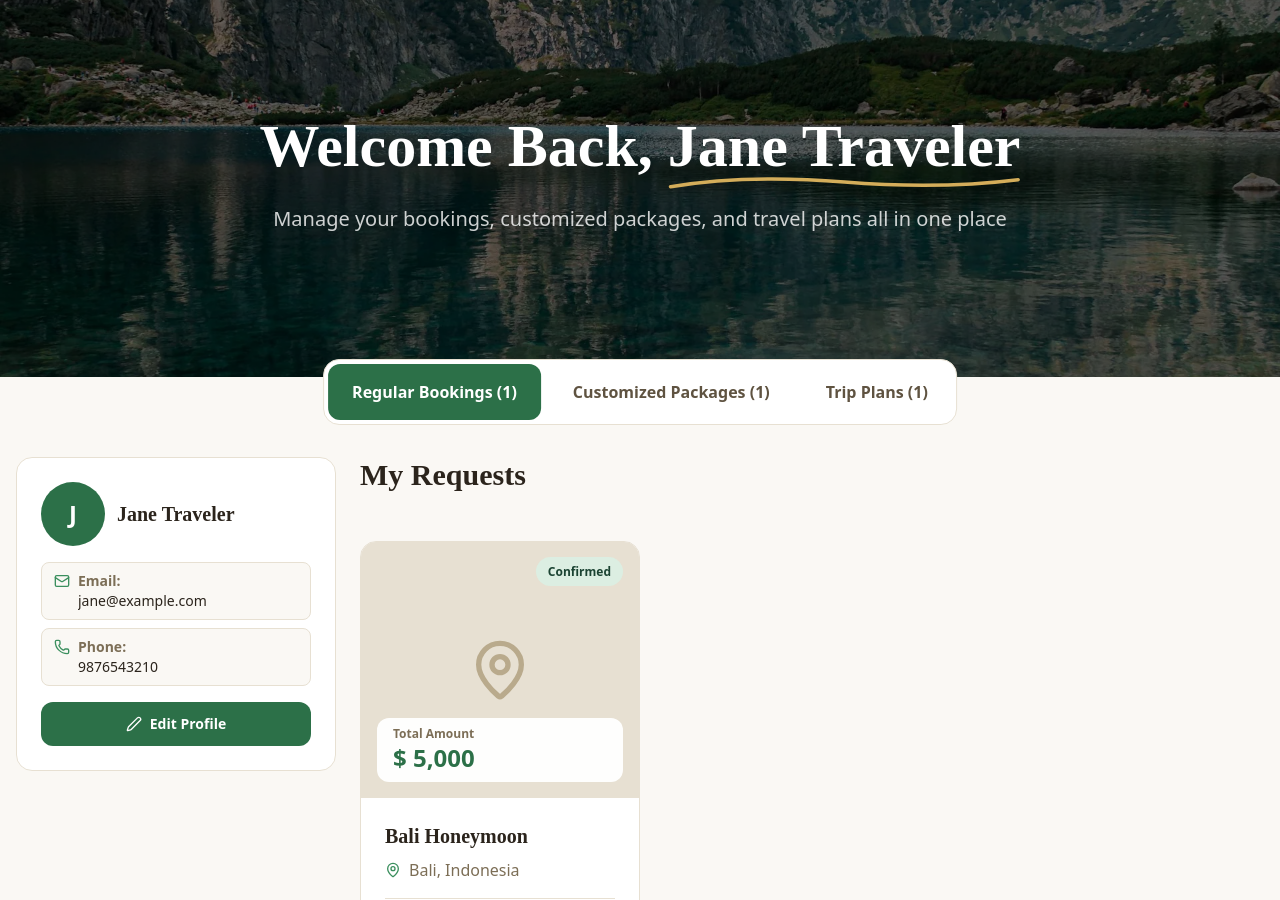
Test: MyAccountContainer › shows the API error message when the profile save fails
Click the button "Edit Profile" at (176, 724), box left=41, top=702, right=311, bottom=746
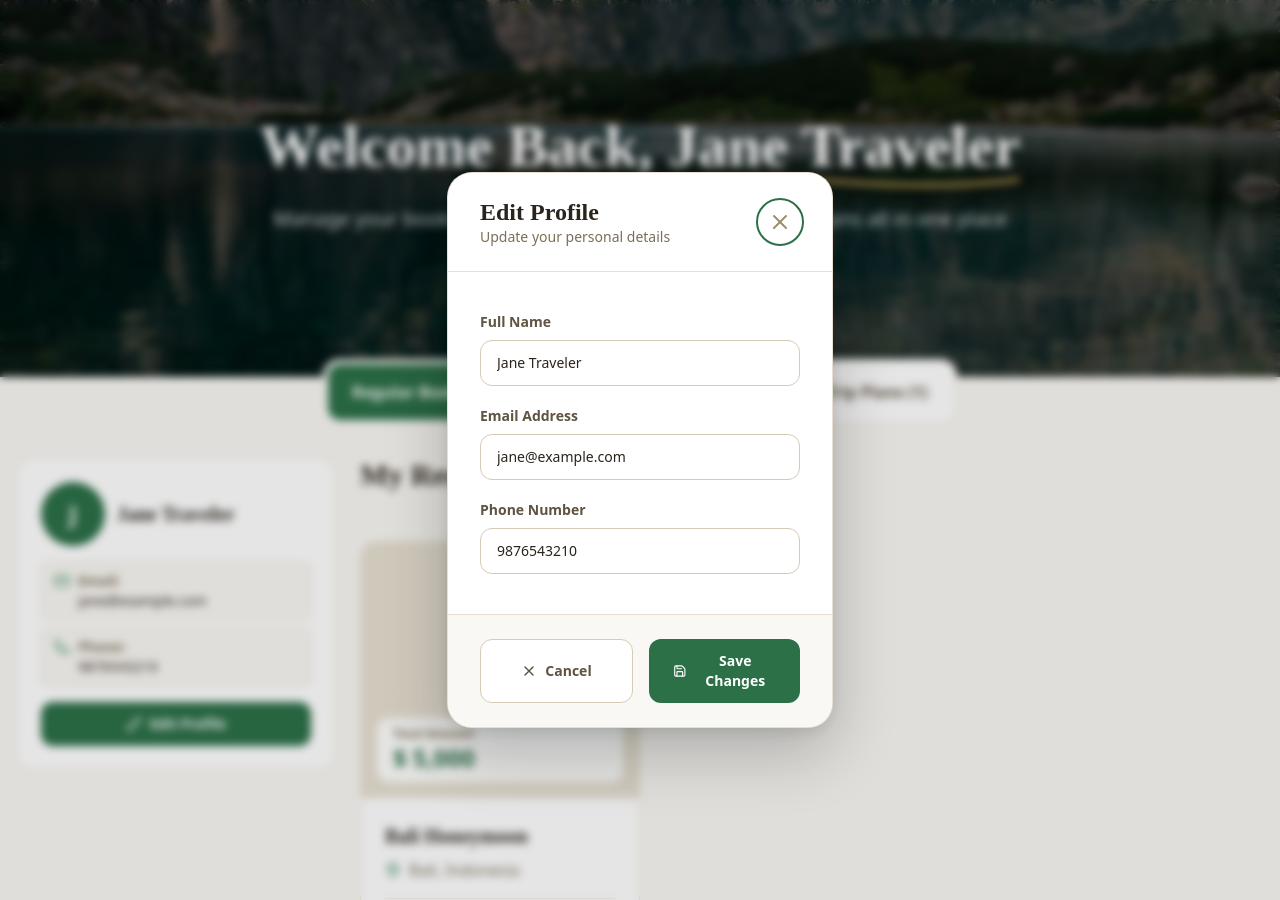
Click the button "Save Changes" at (724, 671), box left=649, top=639, right=800, bottom=703
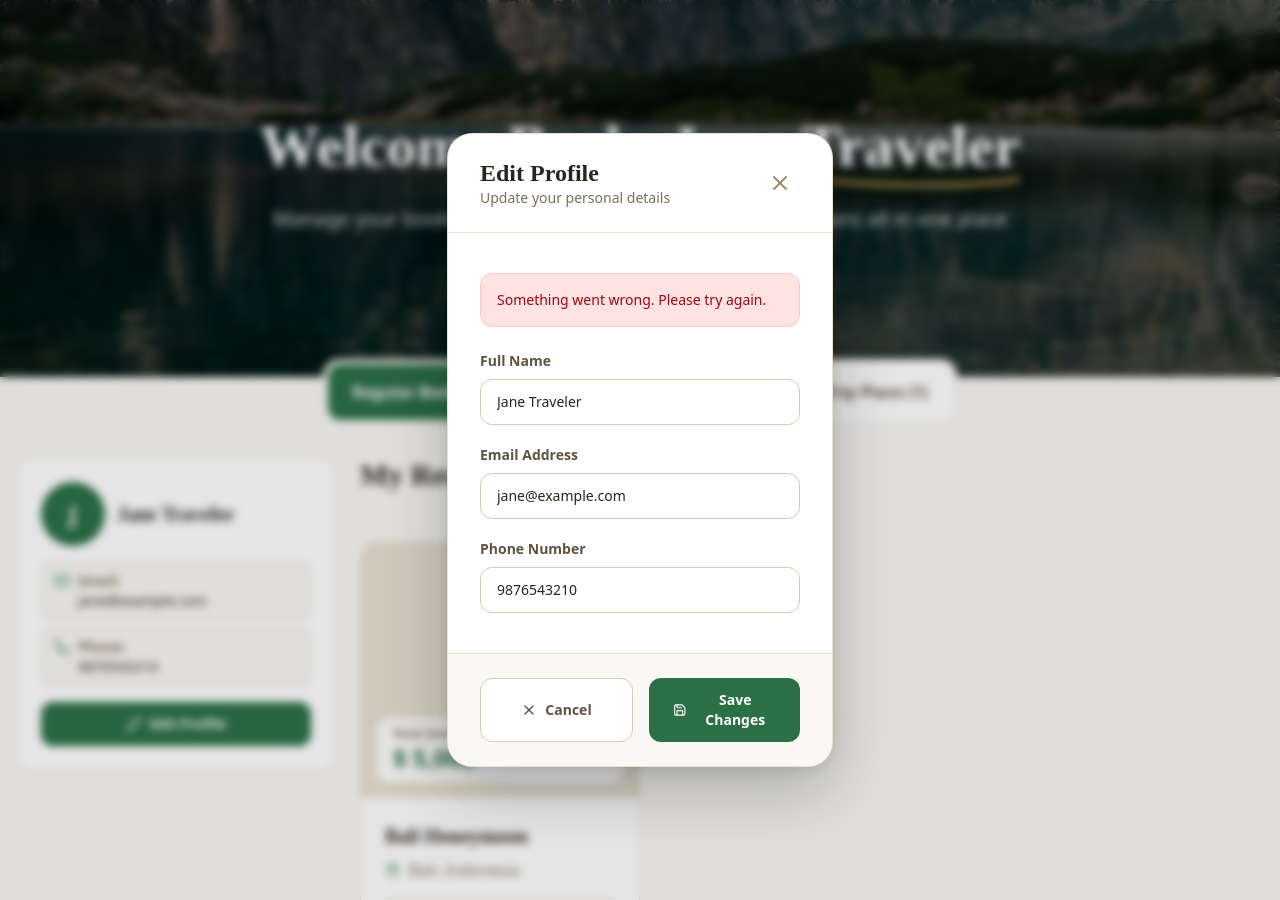
Expected: the text "Something went wrong. Please try again." is shown, left=480, top=273, right=800, bottom=327
